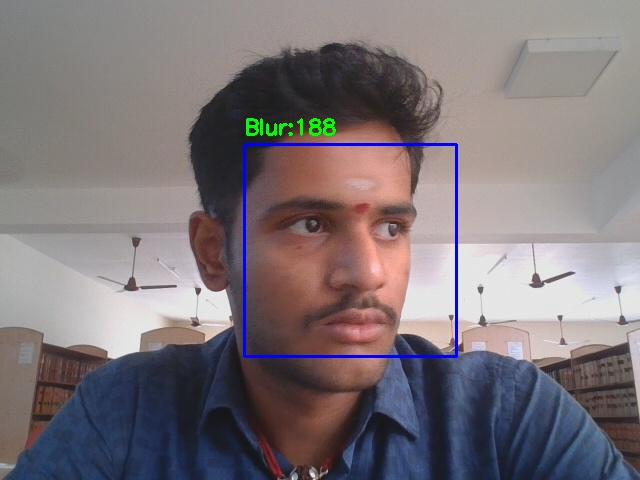real: (244, 144, 456, 356)
